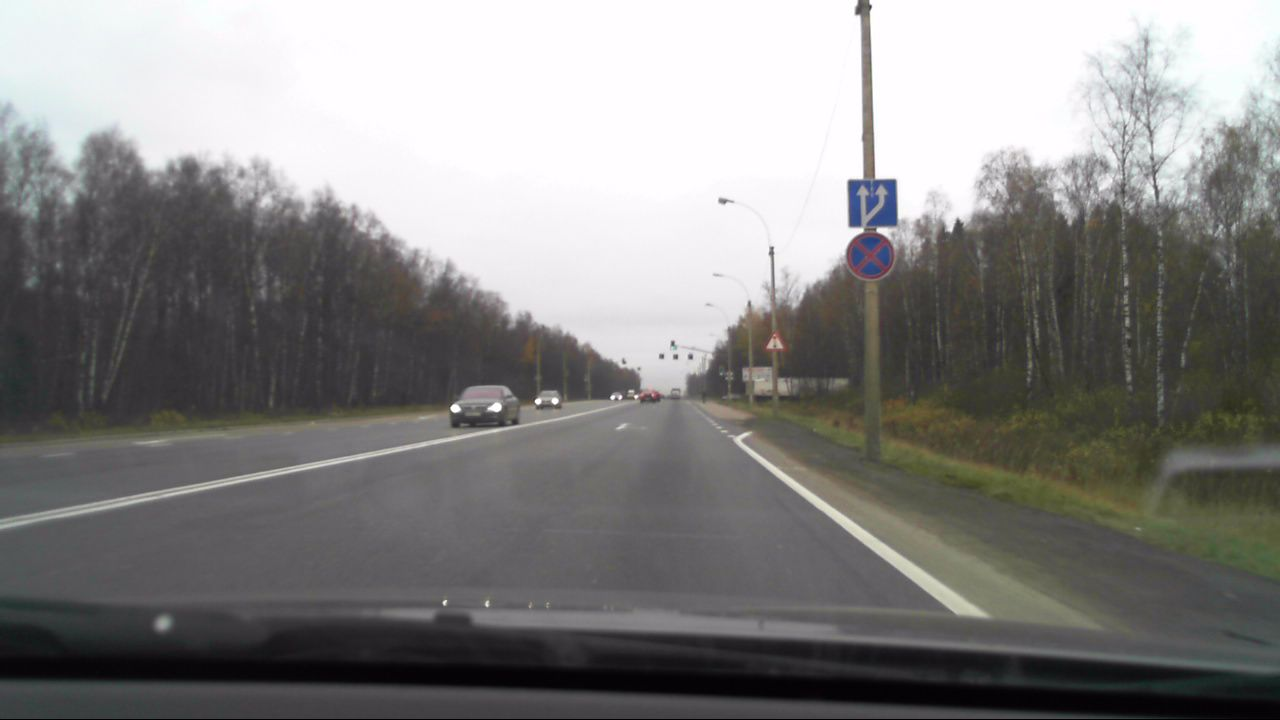No Parking: (844, 231, 897, 283)
